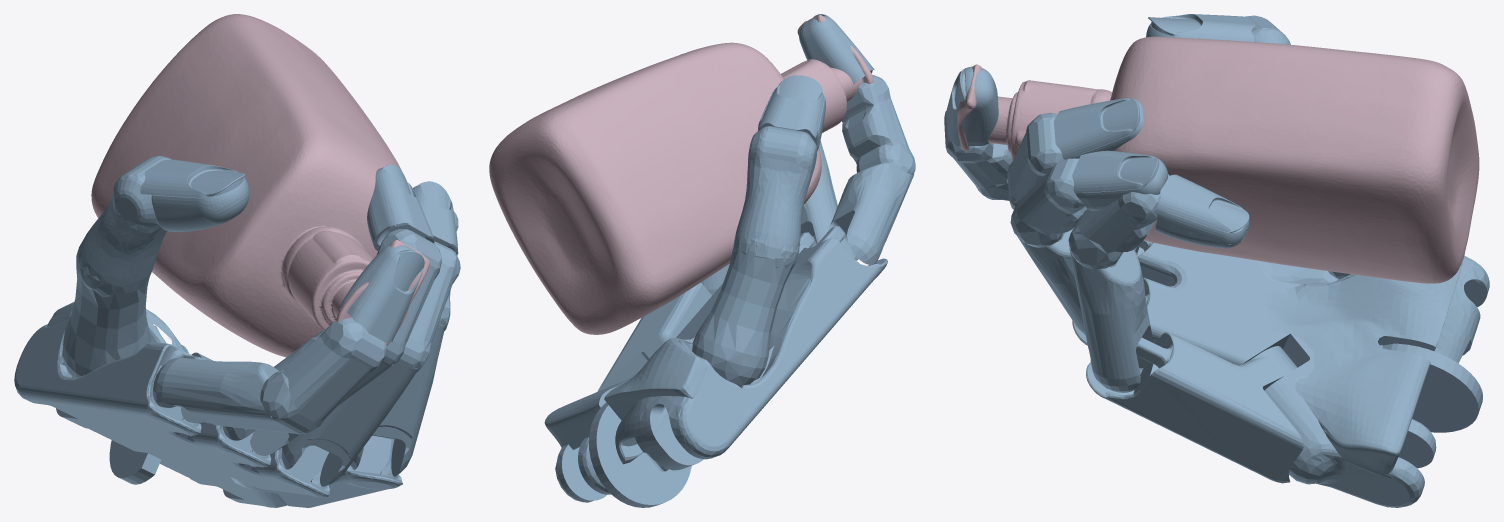
The picture shows the model from 3 angles, left to right: view 1: azimuth 30°, elevation 25°; view 2: azimuth 150°, elevation 25°; view 3: azimuth 270°, elevation 25°; orthographic projection. The views are drawn at different scales.
Visible parts, largest first — view 1: world, obj_mesh_grasp_15.obj; view 2: world, obj_mesh_grasp_15.obj; view 3: world, obj_mesh_grasp_15.obj.
Boxes of the visible parts, box(x1,y1,x2,y2) form: world: box(14, 156, 460, 507); obj_mesh_grasp_15.obj: box(91, 14, 430, 357); world: box(544, 14, 915, 507); obj_mesh_grasp_15.obj: box(489, 14, 874, 334); world: box(944, 14, 1489, 507); obj_mesh_grasp_15.obj: box(957, 36, 1479, 283).
Bounding box in the file's own units: 0.1057 × 0.1471 × 0.1604.
